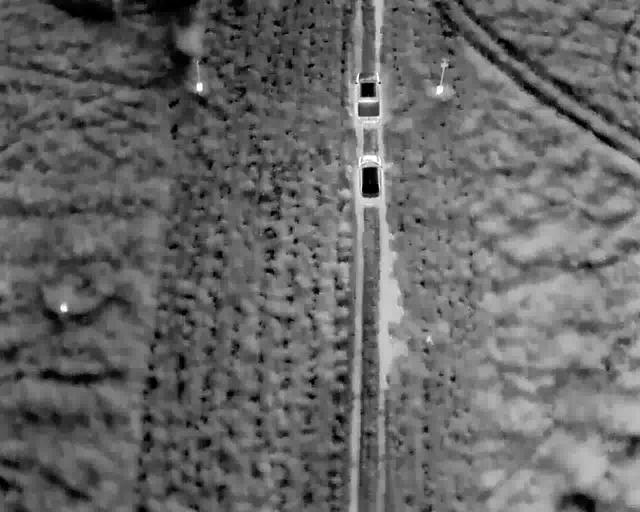car: (354, 71, 381, 123), (358, 155, 384, 200)
